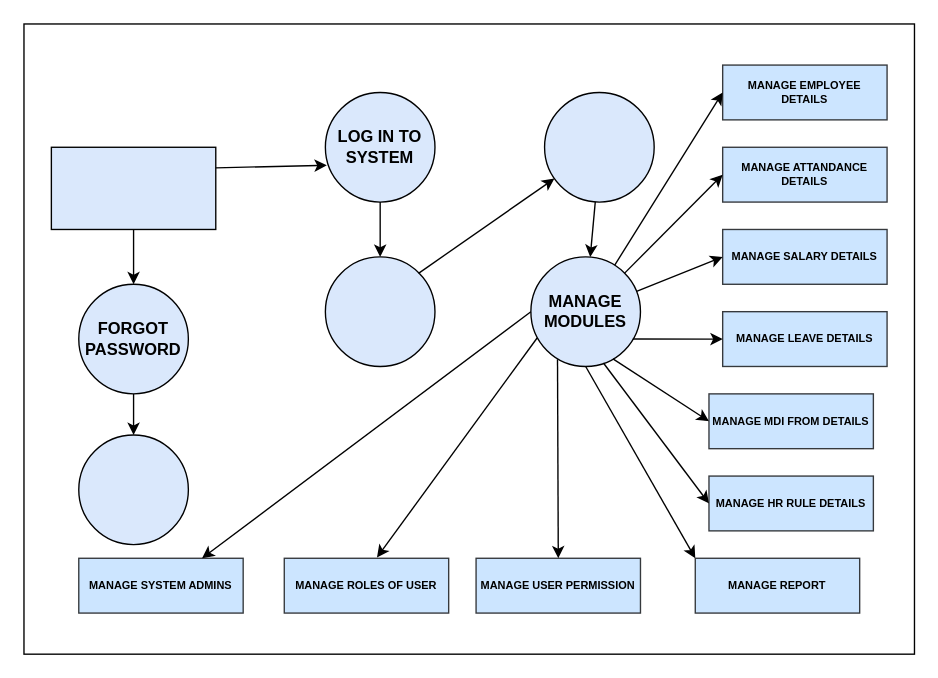
Image size: 938x678. Some labels were removed from this diagram. The centre of each missing label's shape, as x and y in pixels:
ADMIN: point (133, 187)
CHECH ROLES OF ACCESS: point (598, 146)
CHECK CREDENTIALS: point (379, 311)
SEND EMAIL TO USER: point (132, 489)
